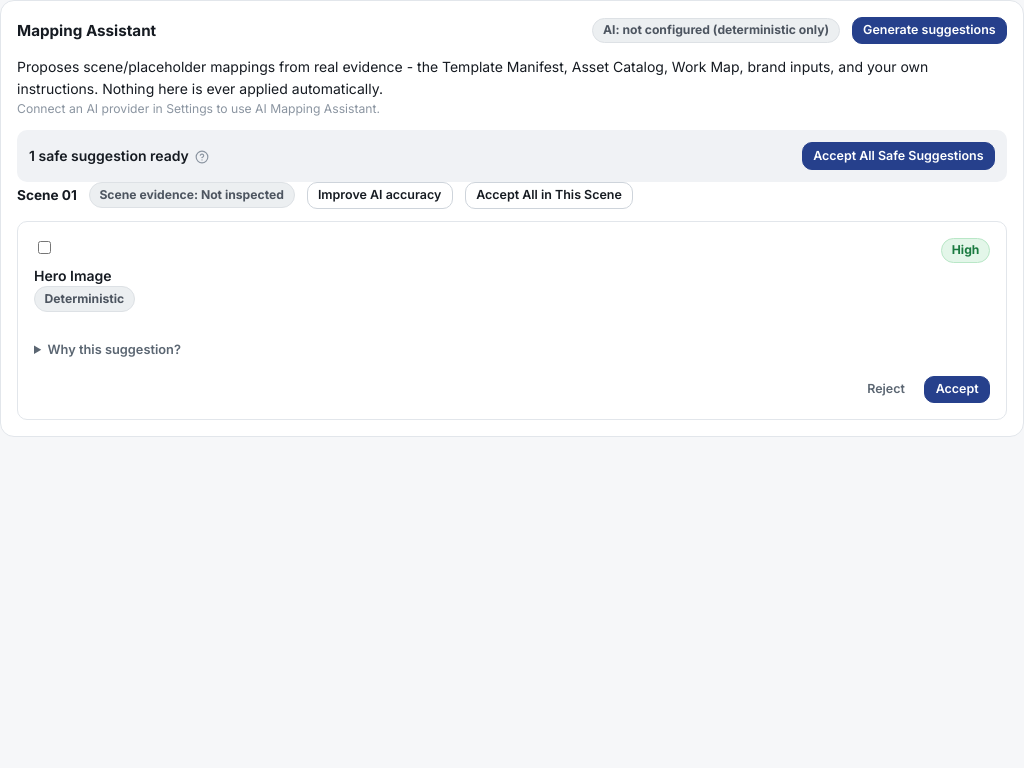
Scenario: MappingAssistantPanel - bulk accept › "Accept All Safe Suggestions" opens a confirmation naming the real count before anything is accepted
Expected: the text "1 safe suggestion ready" is shown, [29,145,211,167]
Click the button "Accept All Safe Suggestions".
click(898, 156)  # box [802,142,995,170]
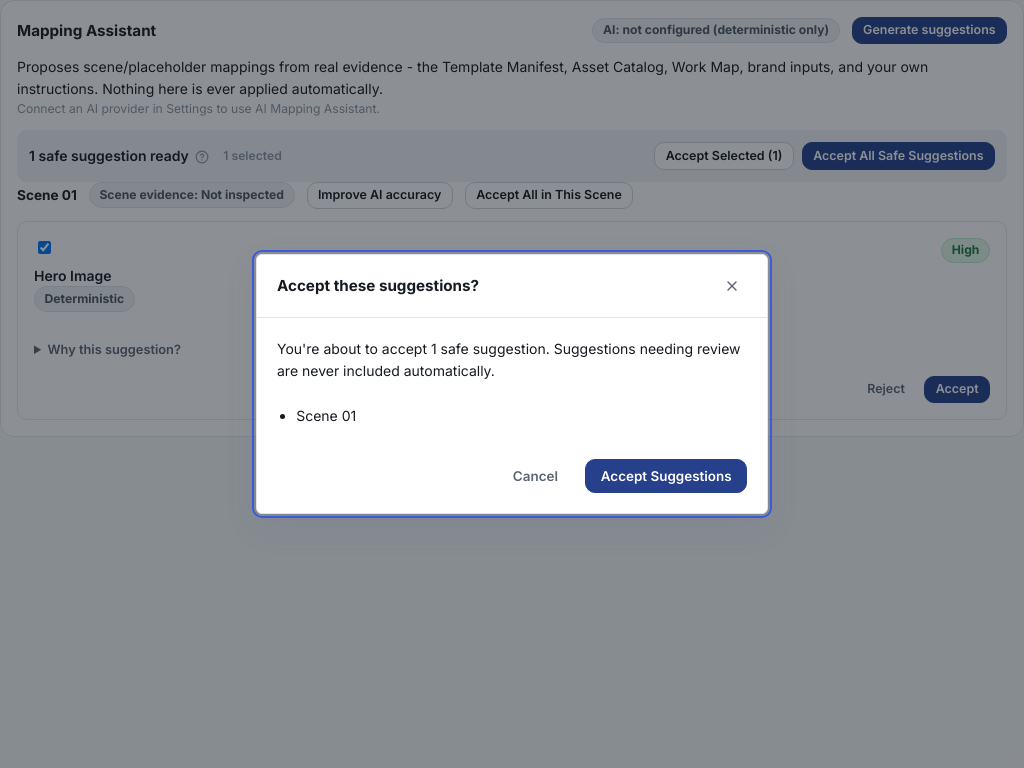
Expected: the text "You're about to accept 1 safe suggestion. Suggestions needing review are never included automatically." is shown, [277,340,741,379]
Expected: the list item "Scene 01" is shown, [296,408,356,424]
